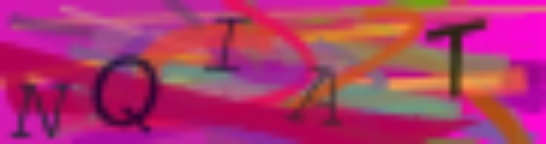A: (286, 64, 341, 132)
I: (201, 16, 253, 75)
N: (10, 79, 71, 143)
Q: (91, 54, 161, 137)
T: (420, 15, 491, 101)
